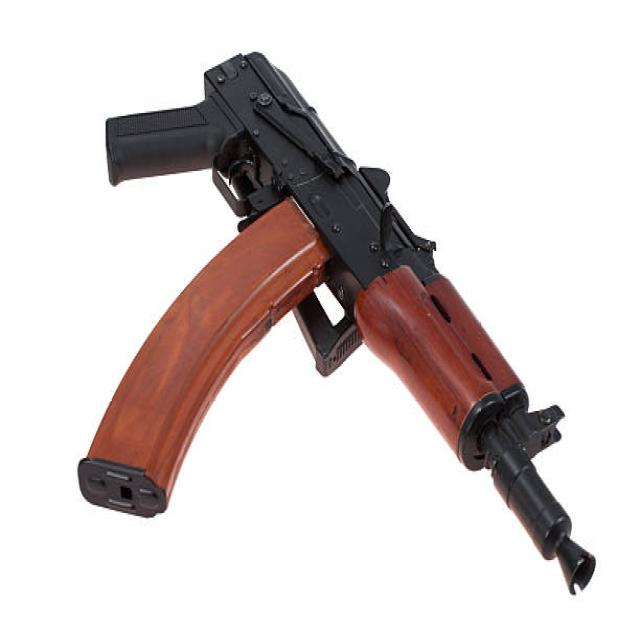rifle: (77, 45, 606, 605)
